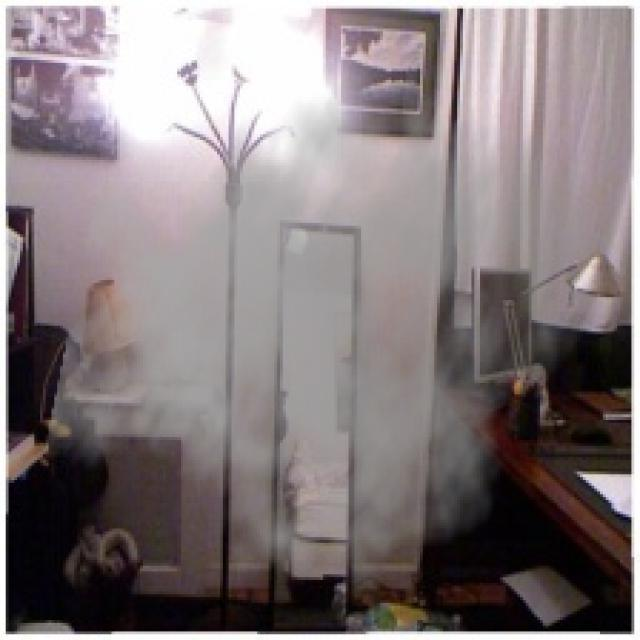Smoke: (43, 40, 603, 603)
